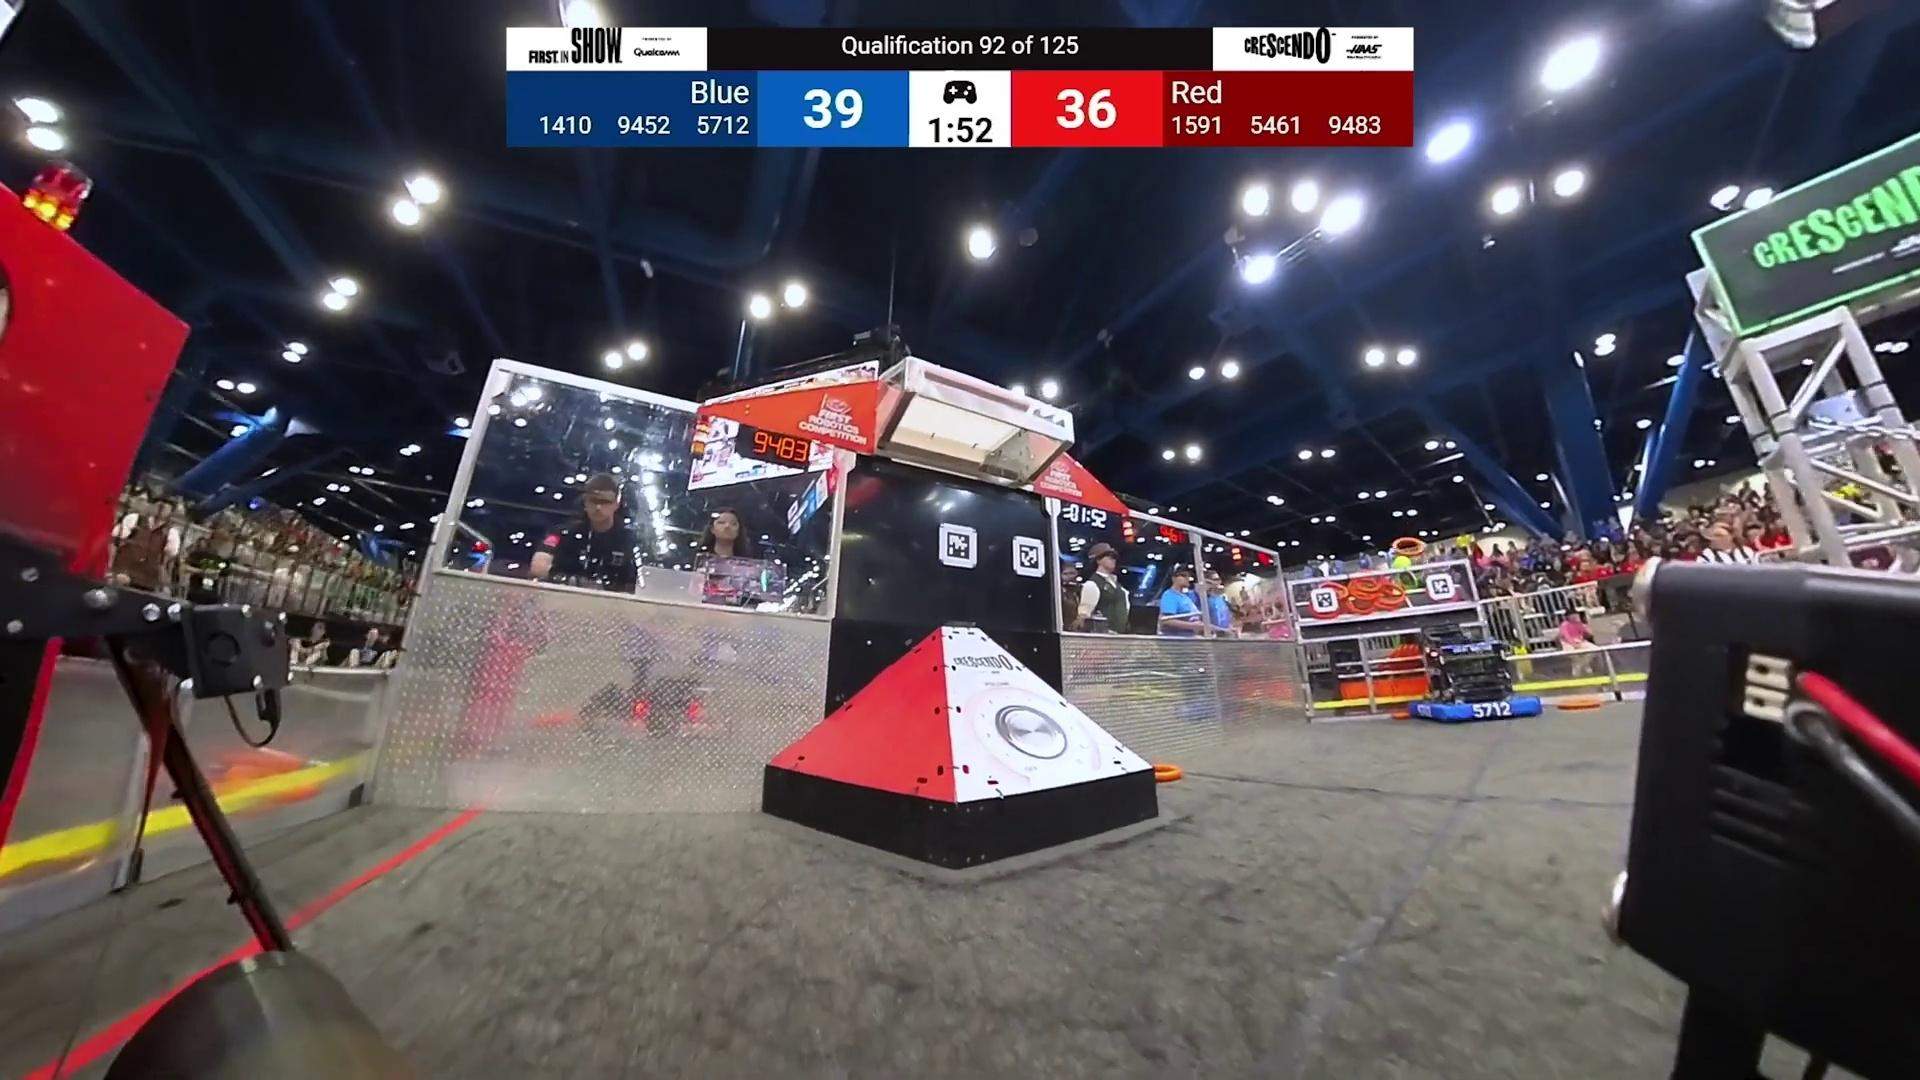robot: (1407, 617, 1542, 725)
